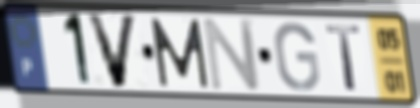1: (59, 10, 93, 89)
G: (272, 20, 323, 94)
M: (147, 16, 212, 90)
N: (200, 16, 263, 93)
T: (323, 23, 365, 93)
V: (83, 11, 141, 91)
